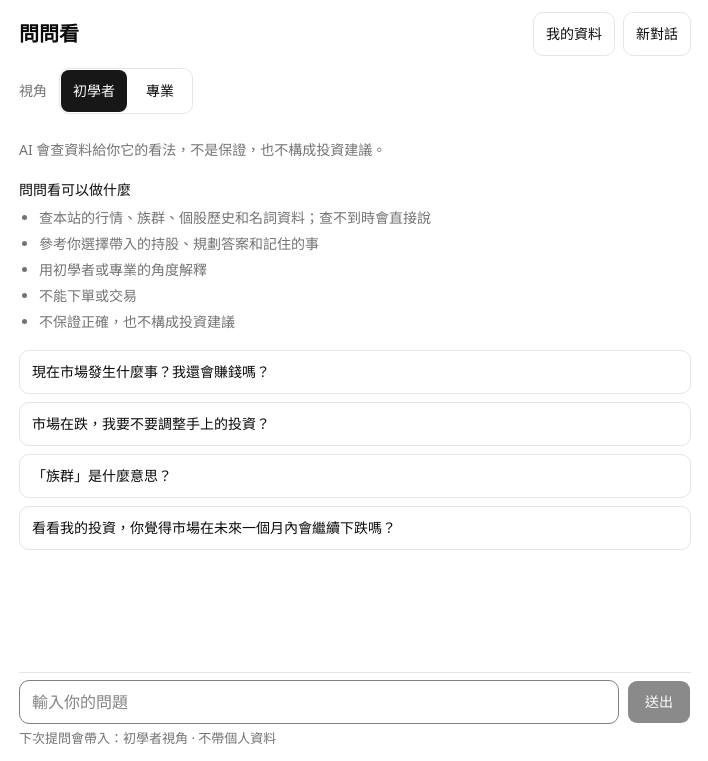
Test: chat: live-region roles › announces a broken answer as an alert and a notice as a status
This screenshot has width=708, height=761.
Step 1. Type "你好" into the text box named "提問" → (319, 702), box [19,680,619,724]
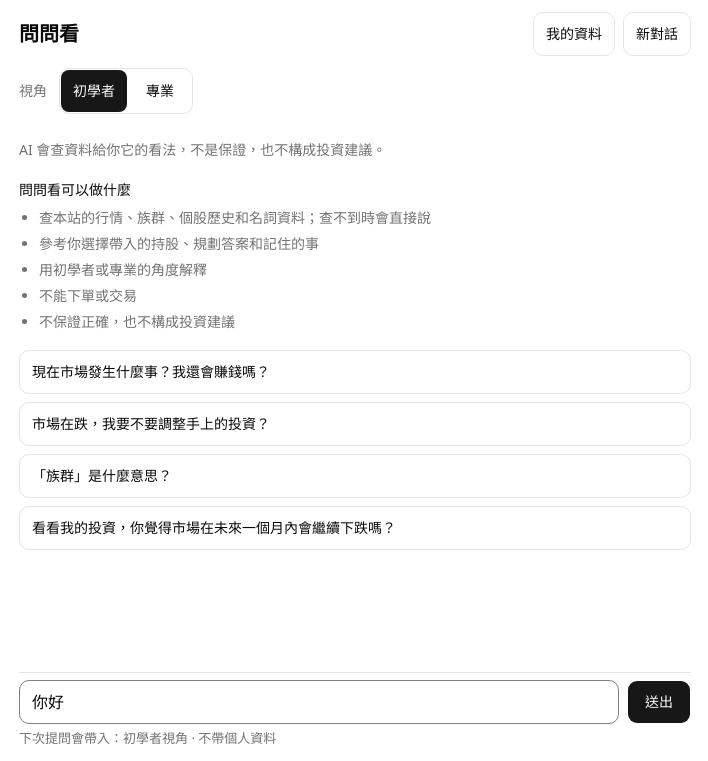
Step 2. Click the button "送出" → (659, 702), box [627,680,691,724]
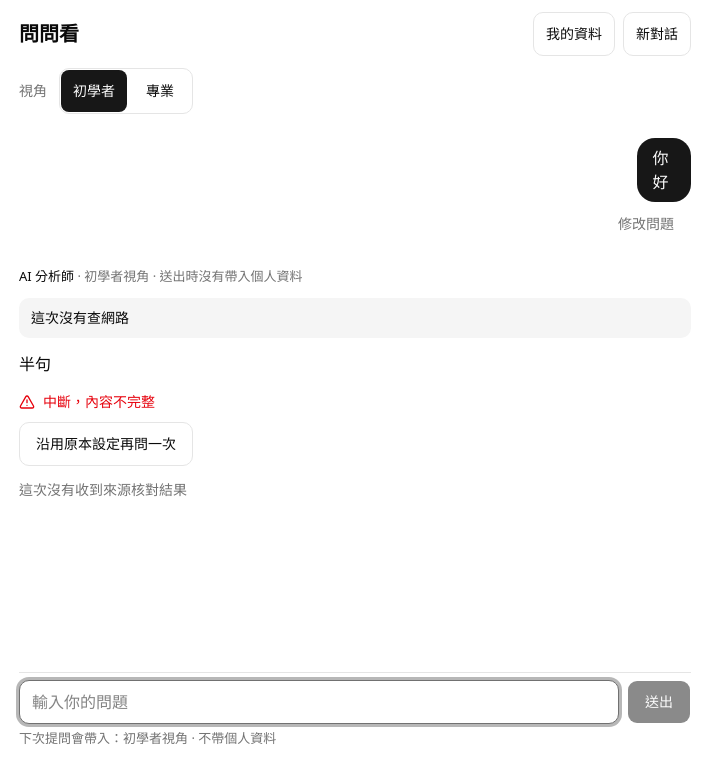
Expected: the message "中斷，內容不完整" is shown, [19,390,155,414]
